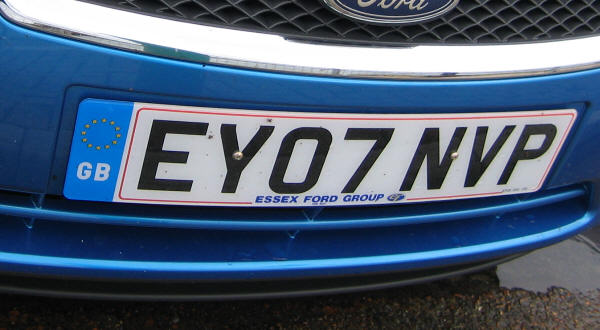license_plate: (63, 97, 577, 209)
